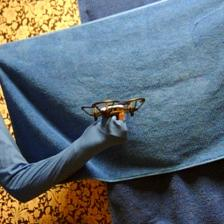drone: (80, 96, 146, 123)
